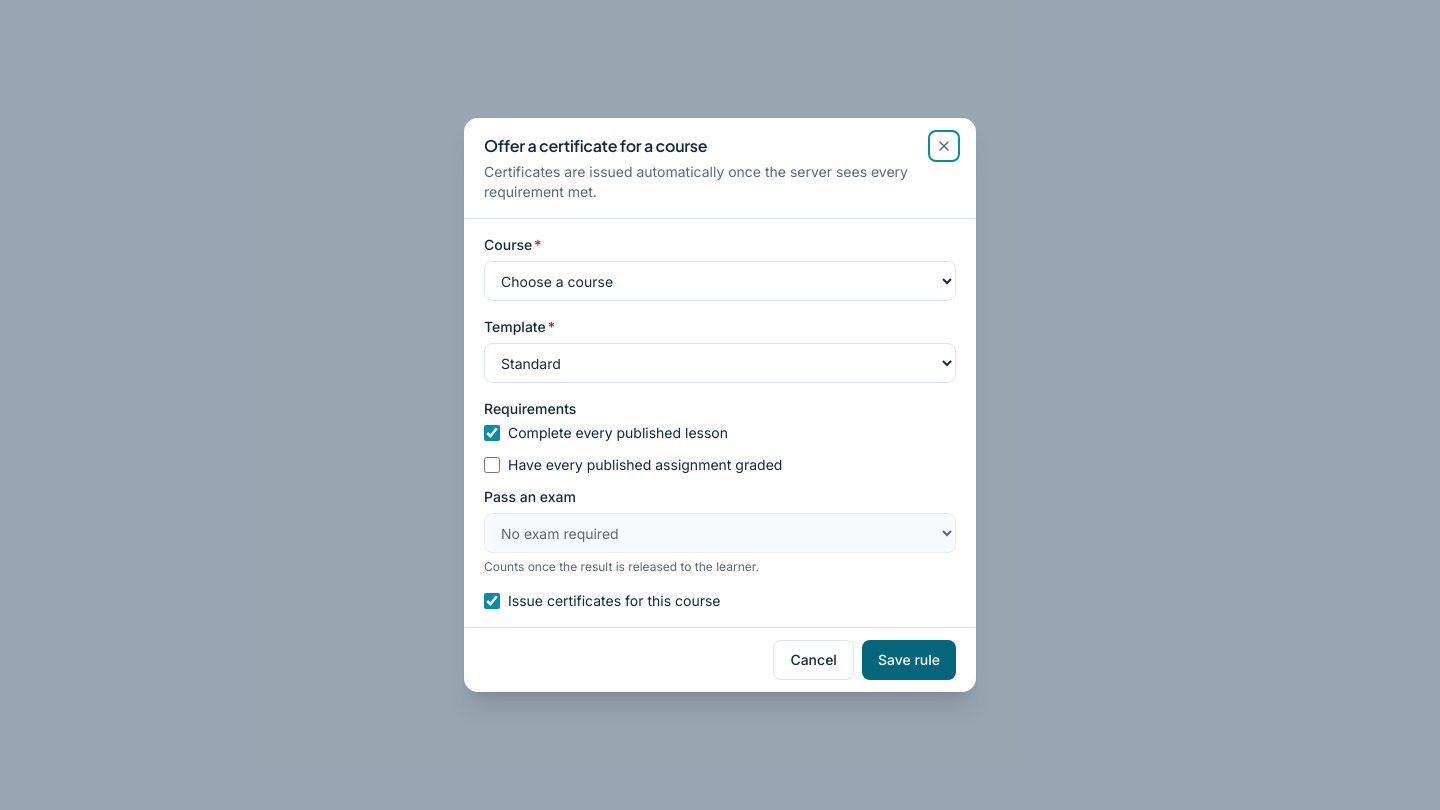
Test: RuleDialog › refuses to enable a rule with no requirements
Step 1. Select "Python" in the dropdown labelled "Course*" → {"x": 720, "y": 281}, box top-left (484, 261), bottom-right (956, 301)
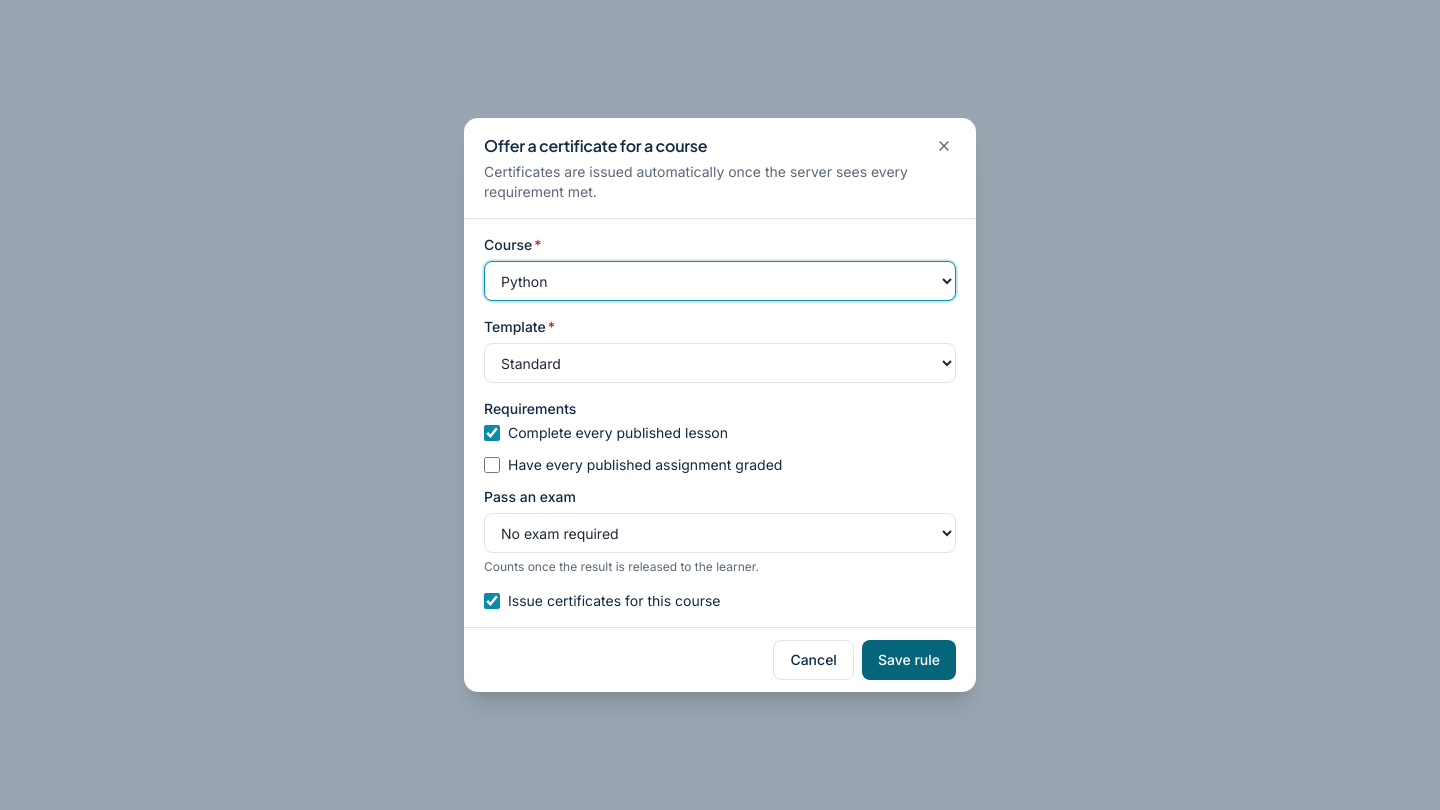
Step 2. Click the checkbox labelled "Complete every published lesson" → {"x": 492, "y": 433}, box top-left (484, 425), bottom-right (500, 441)
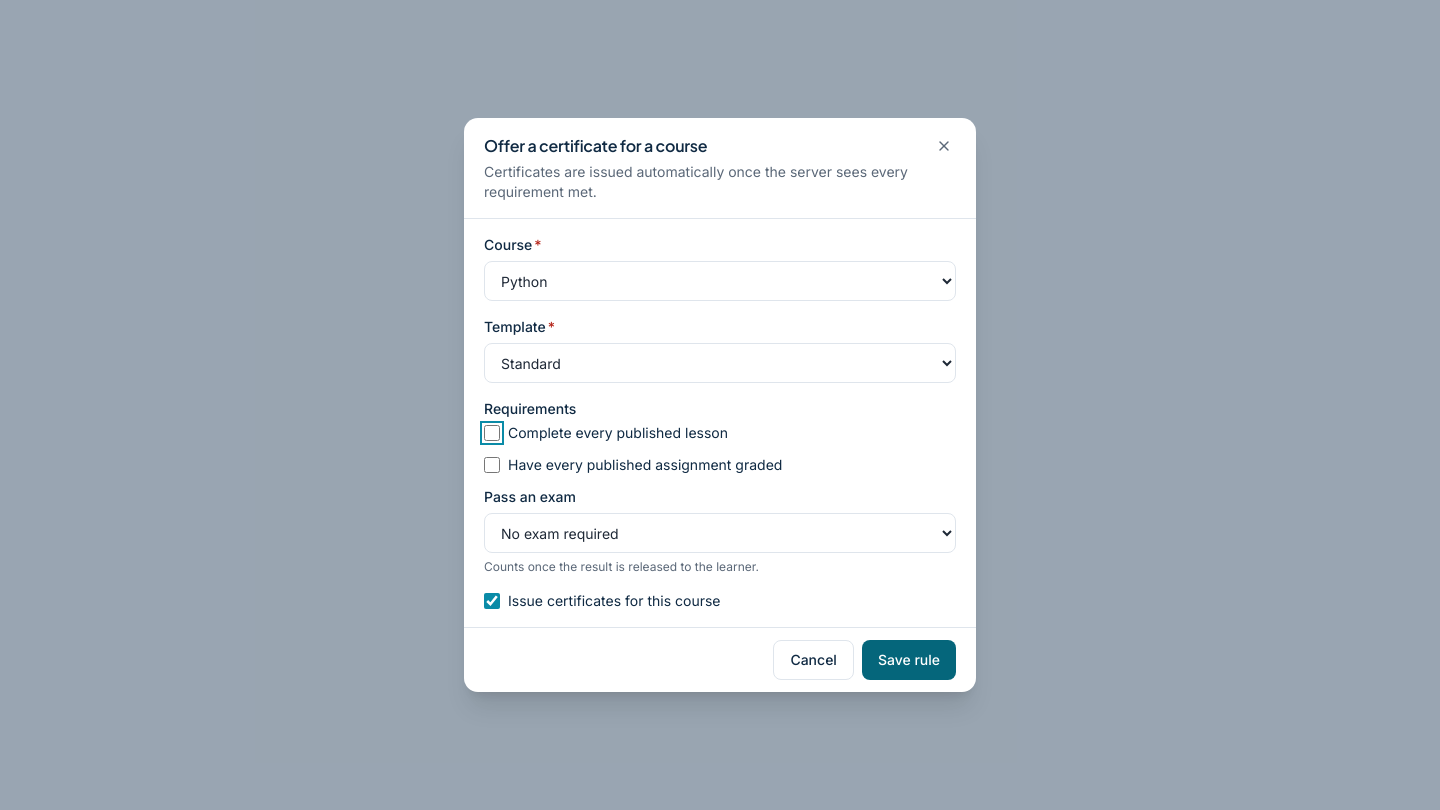
Step 3. Click the button "Save rule" → {"x": 909, "y": 660}, box top-left (862, 640), bottom-right (956, 680)
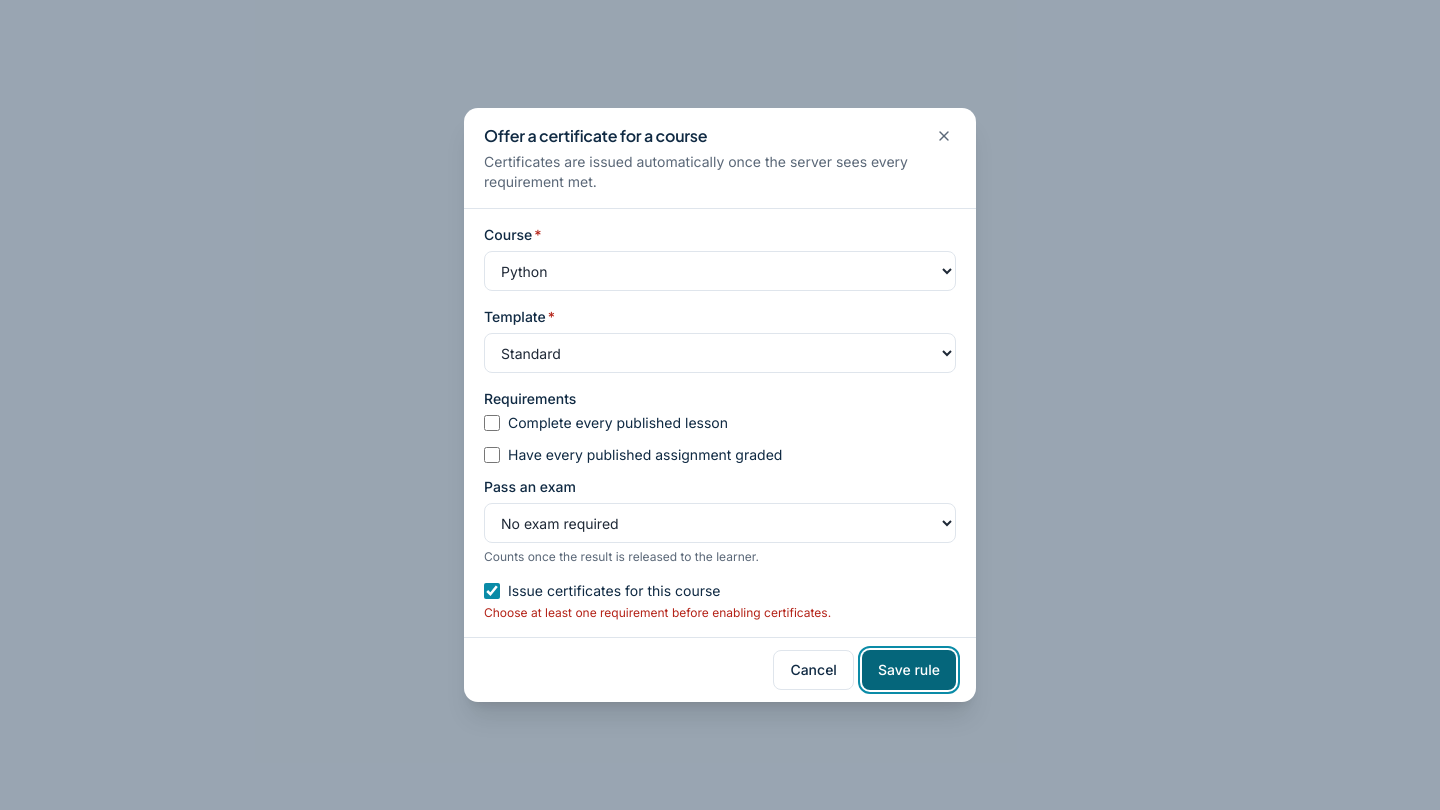
Check: the text "Choose at least one requirement before enabling certificates." is shown, box top-left (484, 605), bottom-right (831, 620)
